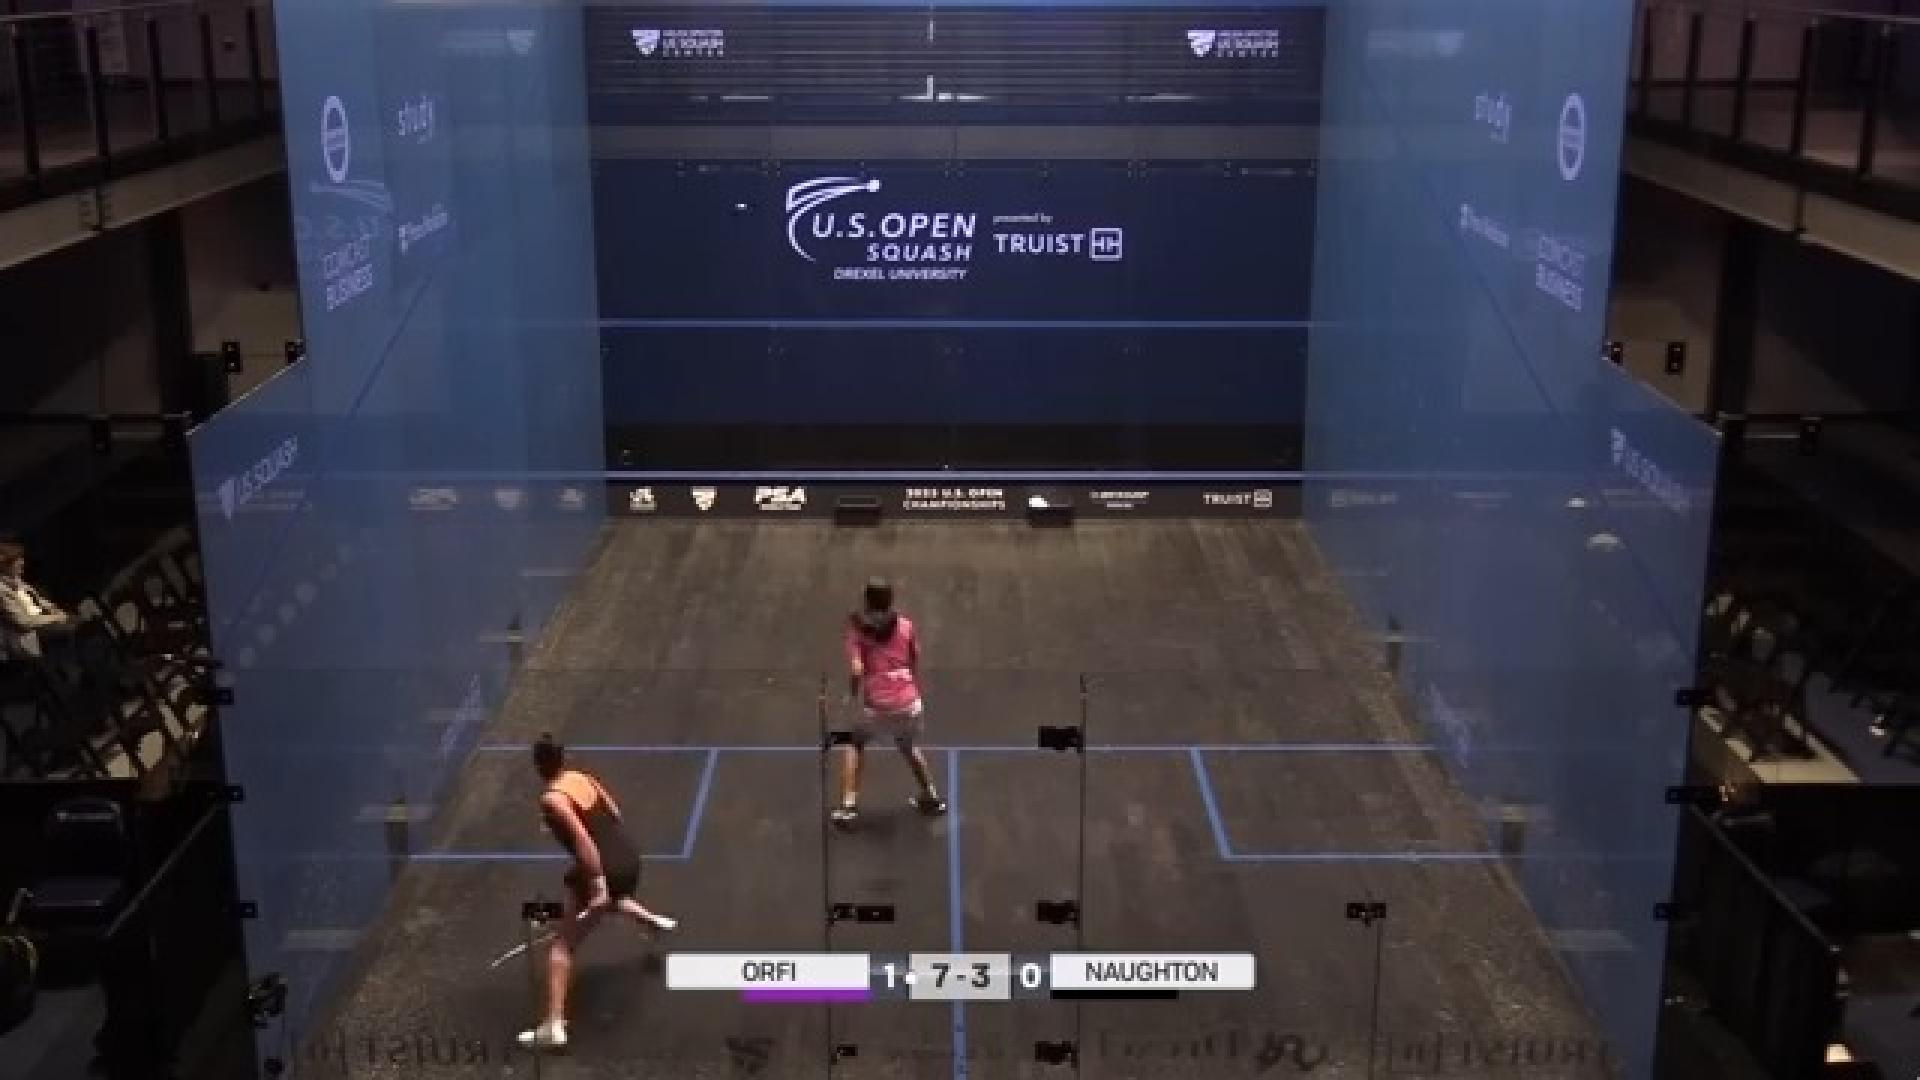Squash-Ball: (729, 191, 757, 224)
